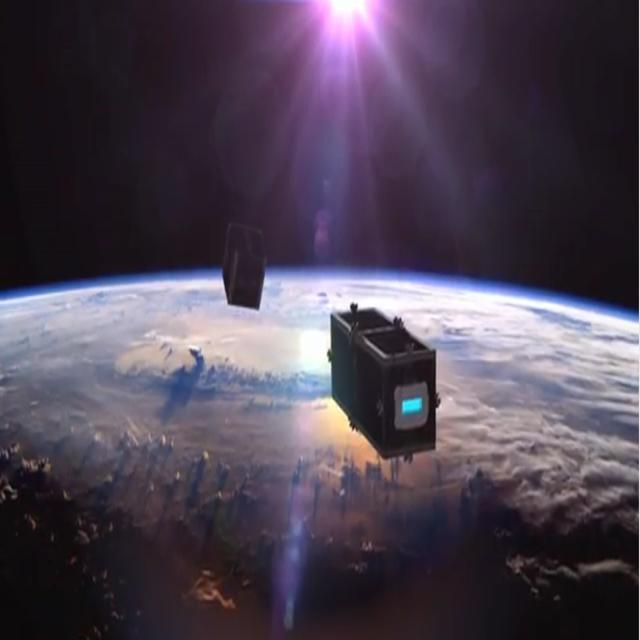debris: (214, 212, 271, 317)
sat: (317, 279, 455, 476)
